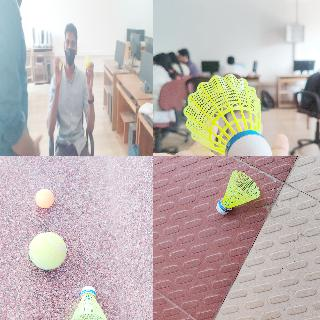shuttlecock: (183, 73, 272, 155), (217, 170, 261, 214), (70, 285, 109, 319), (85, 54, 90, 69)
